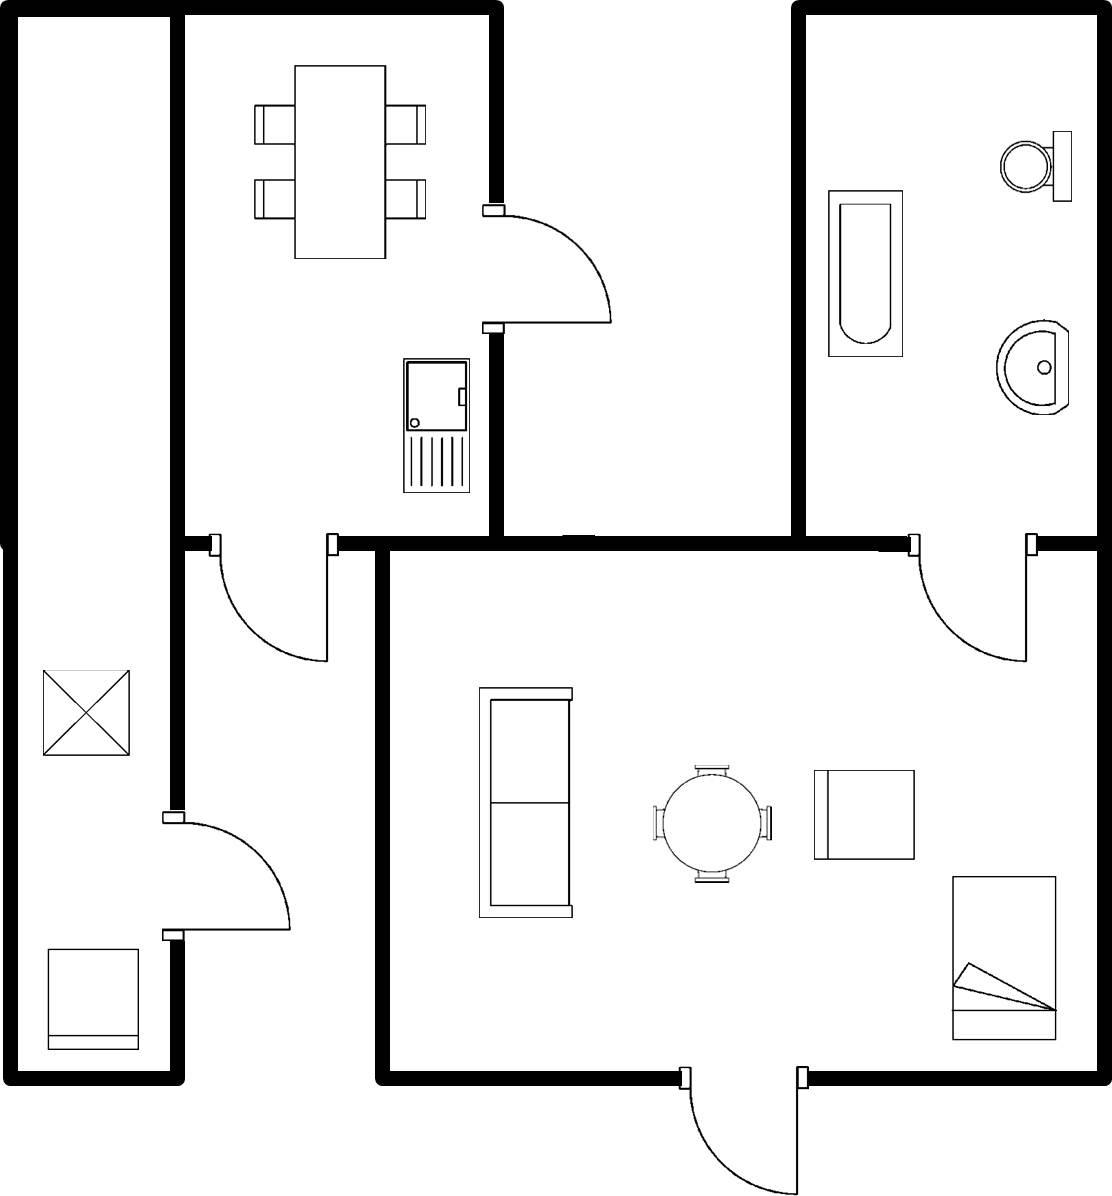bed: (941, 868, 1066, 1054)
dining_table: (244, 55, 433, 268)
round_table: (642, 755, 782, 894)
sink: (392, 348, 476, 501)
sofa: (468, 678, 582, 928)
toilet: (989, 120, 1080, 211)
tub: (818, 177, 910, 366)
